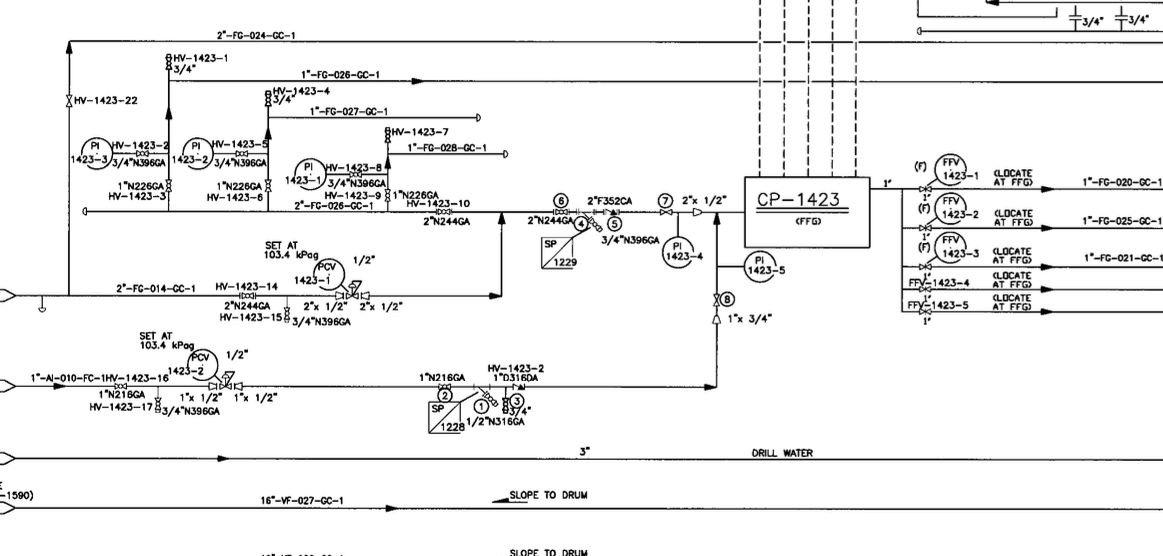Instrument-offset: (737, 248, 796, 289), (292, 257, 348, 292), (166, 347, 221, 382), (932, 150, 982, 188), (934, 190, 984, 227), (934, 232, 985, 268), (283, 153, 327, 191), (71, 133, 113, 172), (659, 235, 707, 269)
